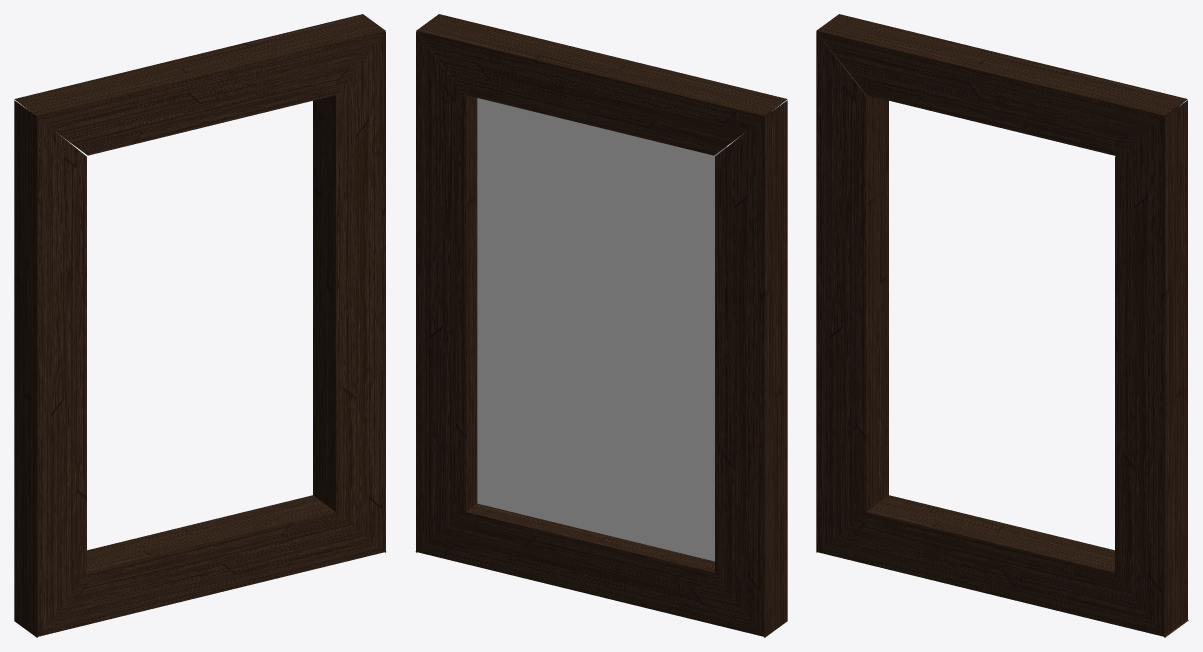
File: frame.glb
3 views of the same model, side by side, from view 1: azimuth 30°, elevation 25°; view 2: azimuth 150°, elevation 25°; view 3: azimuth 330°, elevation 25° (orthographic).
Parts seen in each view (by area): view 1: Cube, Cube.001, Cube.002, Cube.003; view 2: painting, Cube, Cube.001, Cube.002, Cube.003; view 3: Cube.001, Cube, Cube.002, Cube.003.
Part boxes in pixels (x1=…): Cube: x1=14, y1=100, x2=86, y2=637; Cube.001: x1=313, y1=31, x2=385, y2=552; Cube.002: x1=14, y1=14, x2=385, y2=155; Cube.003: x1=38, y1=495, x2=386, y2=636; painting: x1=477, y1=98, x2=726, y2=561; Cube: x1=715, y1=100, x2=787, y2=637; Cube.001: x1=416, y1=31, x2=477, y2=552; Cube.002: x1=416, y1=14, x2=787, y2=155; Cube.003: x1=415, y1=503, x2=763, y2=636; Cube.001: x1=1115, y1=100, x2=1187, y2=637; Cube: x1=816, y1=31, x2=888, y2=552; Cube.002: x1=816, y1=14, x2=1187, y2=155; Cube.003: x1=817, y1=495, x2=1188, y2=637.
Size of the model in its own units: 3.51 by 5.01 by 0.4.
1 material, 1 textured.
